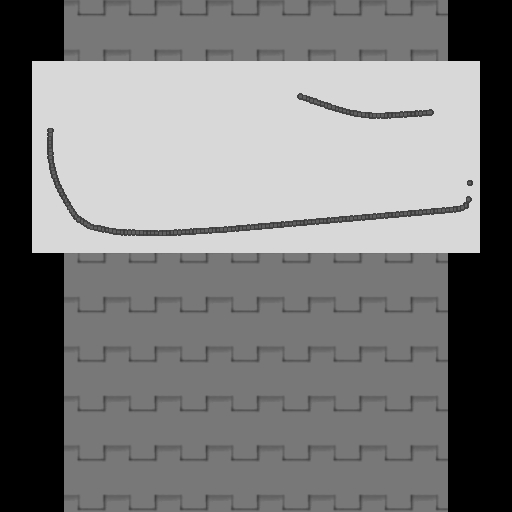Defect: (45, 82, 301, 134)
